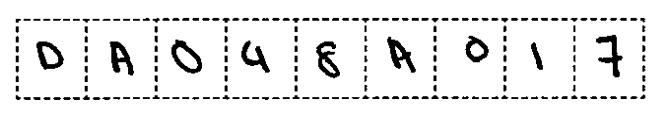0: (163, 32, 209, 78), (455, 32, 494, 68)
1: (518, 37, 553, 74)
4: (235, 35, 279, 77)
7: (586, 30, 631, 83)
8: (308, 36, 344, 82)
A: (381, 32, 422, 79), (102, 38, 141, 79)
D: (29, 35, 71, 75)
